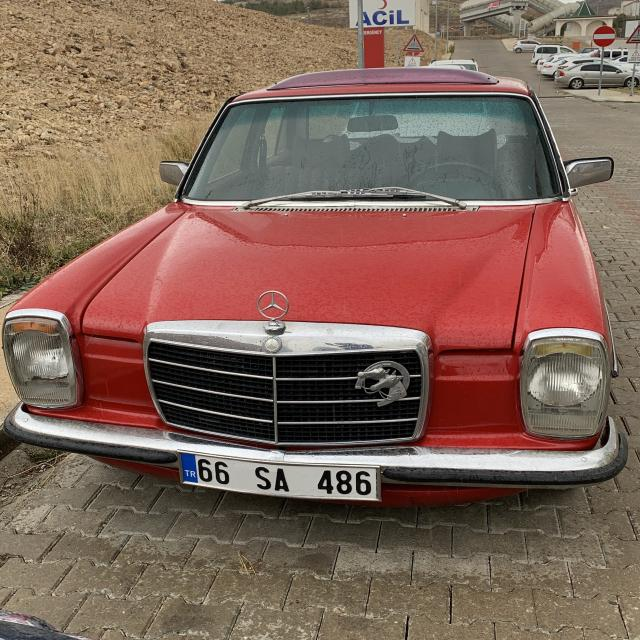license_plate: (180, 450, 379, 500), (450, 476, 452, 476)
